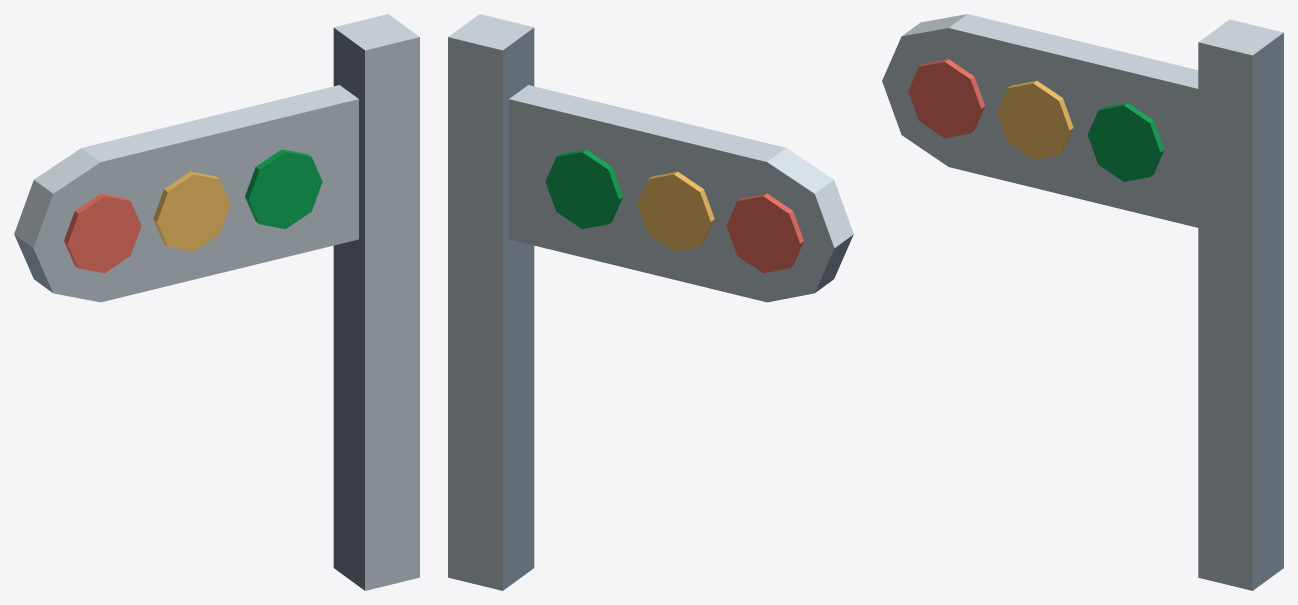
The model's file is signal.fbx.
3 views of the same model, side by side, from view 1: azimuth 30°, elevation 25°; view 2: azimuth 150°, elevation 25°; view 3: azimuth 330°, elevation 25° (orthographic).
Parts seen in each view (by area): view 1: bar, body, Y, B, R; view 2: bar, body, Y, B, R; view 3: bar, body, R, Y, B.
Boxes of the visible parts, x1,y1,x2,y2 form: bar: (333, 14, 419, 590); body: (14, 85, 358, 302); Y: (153, 171, 230, 251); B: (245, 149, 322, 229); R: (64, 193, 141, 273); bar: (448, 14, 534, 590); body: (509, 85, 853, 302); Y: (637, 171, 714, 251); B: (545, 149, 622, 229); R: (726, 193, 803, 273); bar: (1198, 19, 1283, 590); body: (882, 14, 1198, 227); R: (908, 59, 984, 138); Y: (996, 80, 1073, 159); B: (1087, 103, 1164, 181).
Size of the model in its own units: 86.78 by 118 by 12.49.
Materials: 1 (1 with a texture image).
